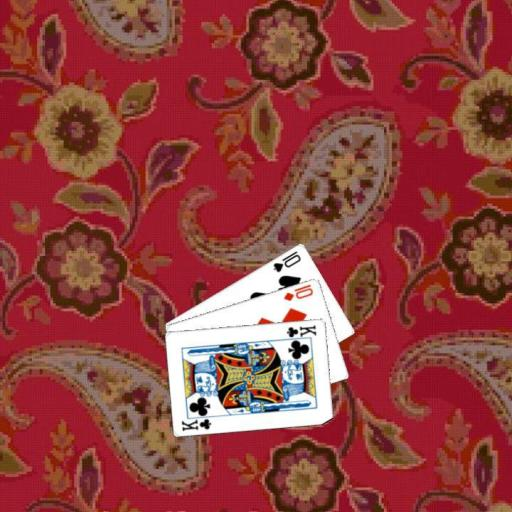10D: (281, 281, 314, 302)
10S: (270, 247, 302, 274)
KC: (281, 322, 318, 342), (179, 412, 216, 432)
